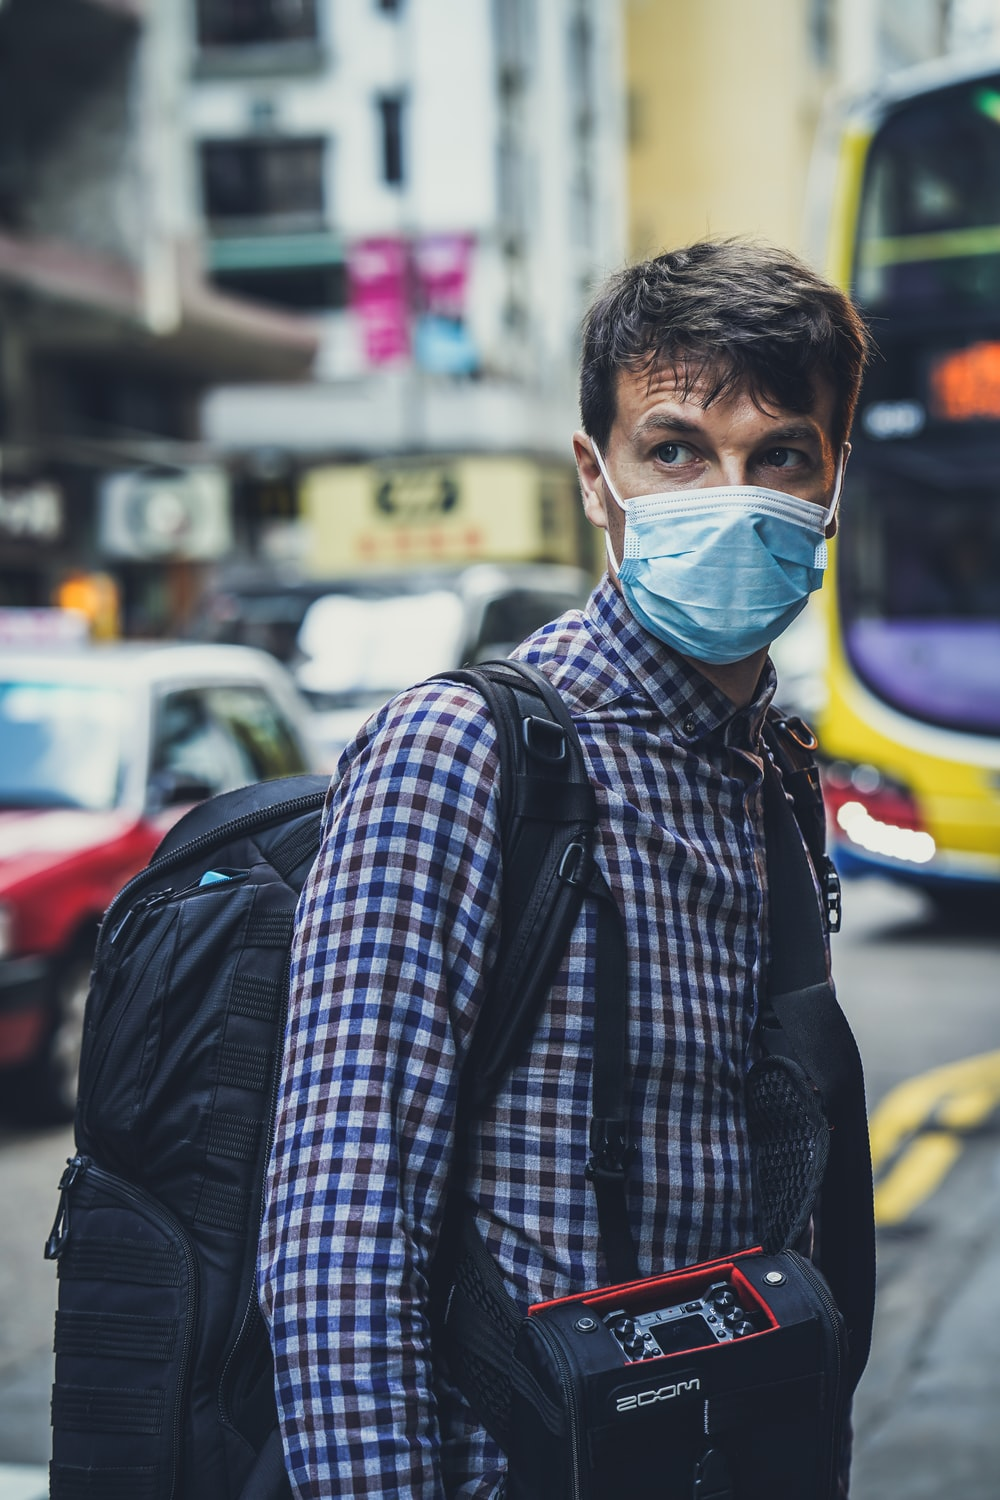surgical: (604, 477, 852, 669)
